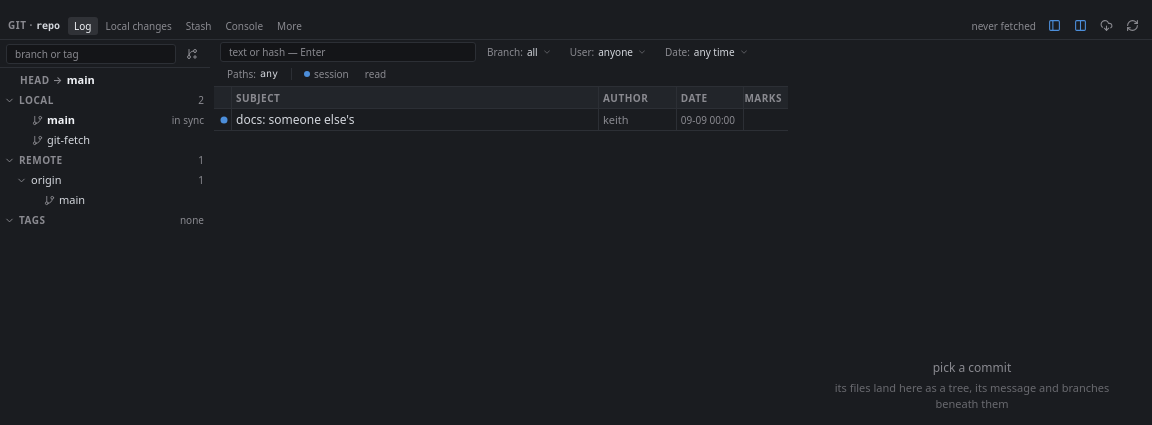
Test: the log › narrows to this session's commits without asking git
Step 1. Click the button "session" → (326, 74), box [298,64,355,84]
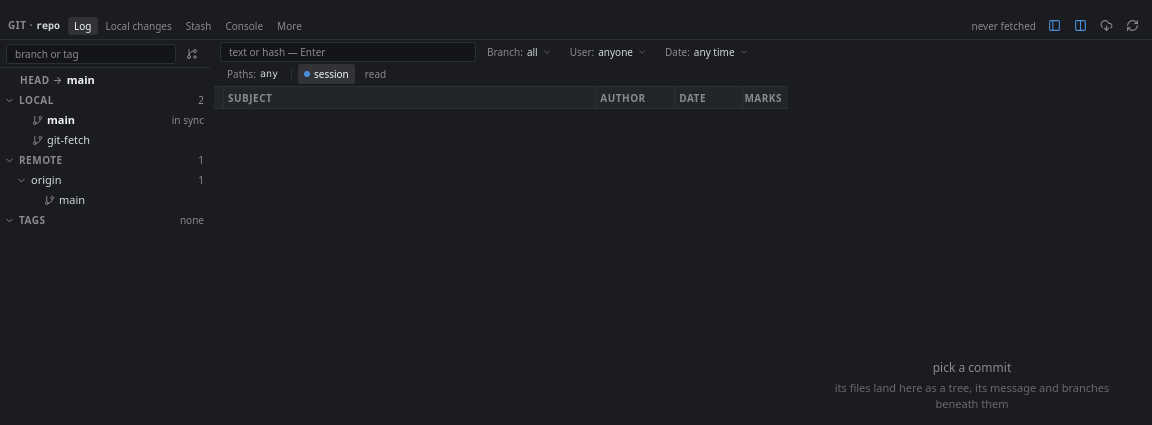
Check: the option shows "feat: the one this session made", box [214,87,788,109]
Check: the number of options is 1, box [214,87,788,109]
